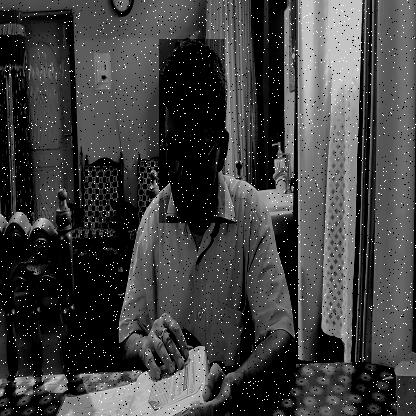Normal: (160, 39, 226, 223)
